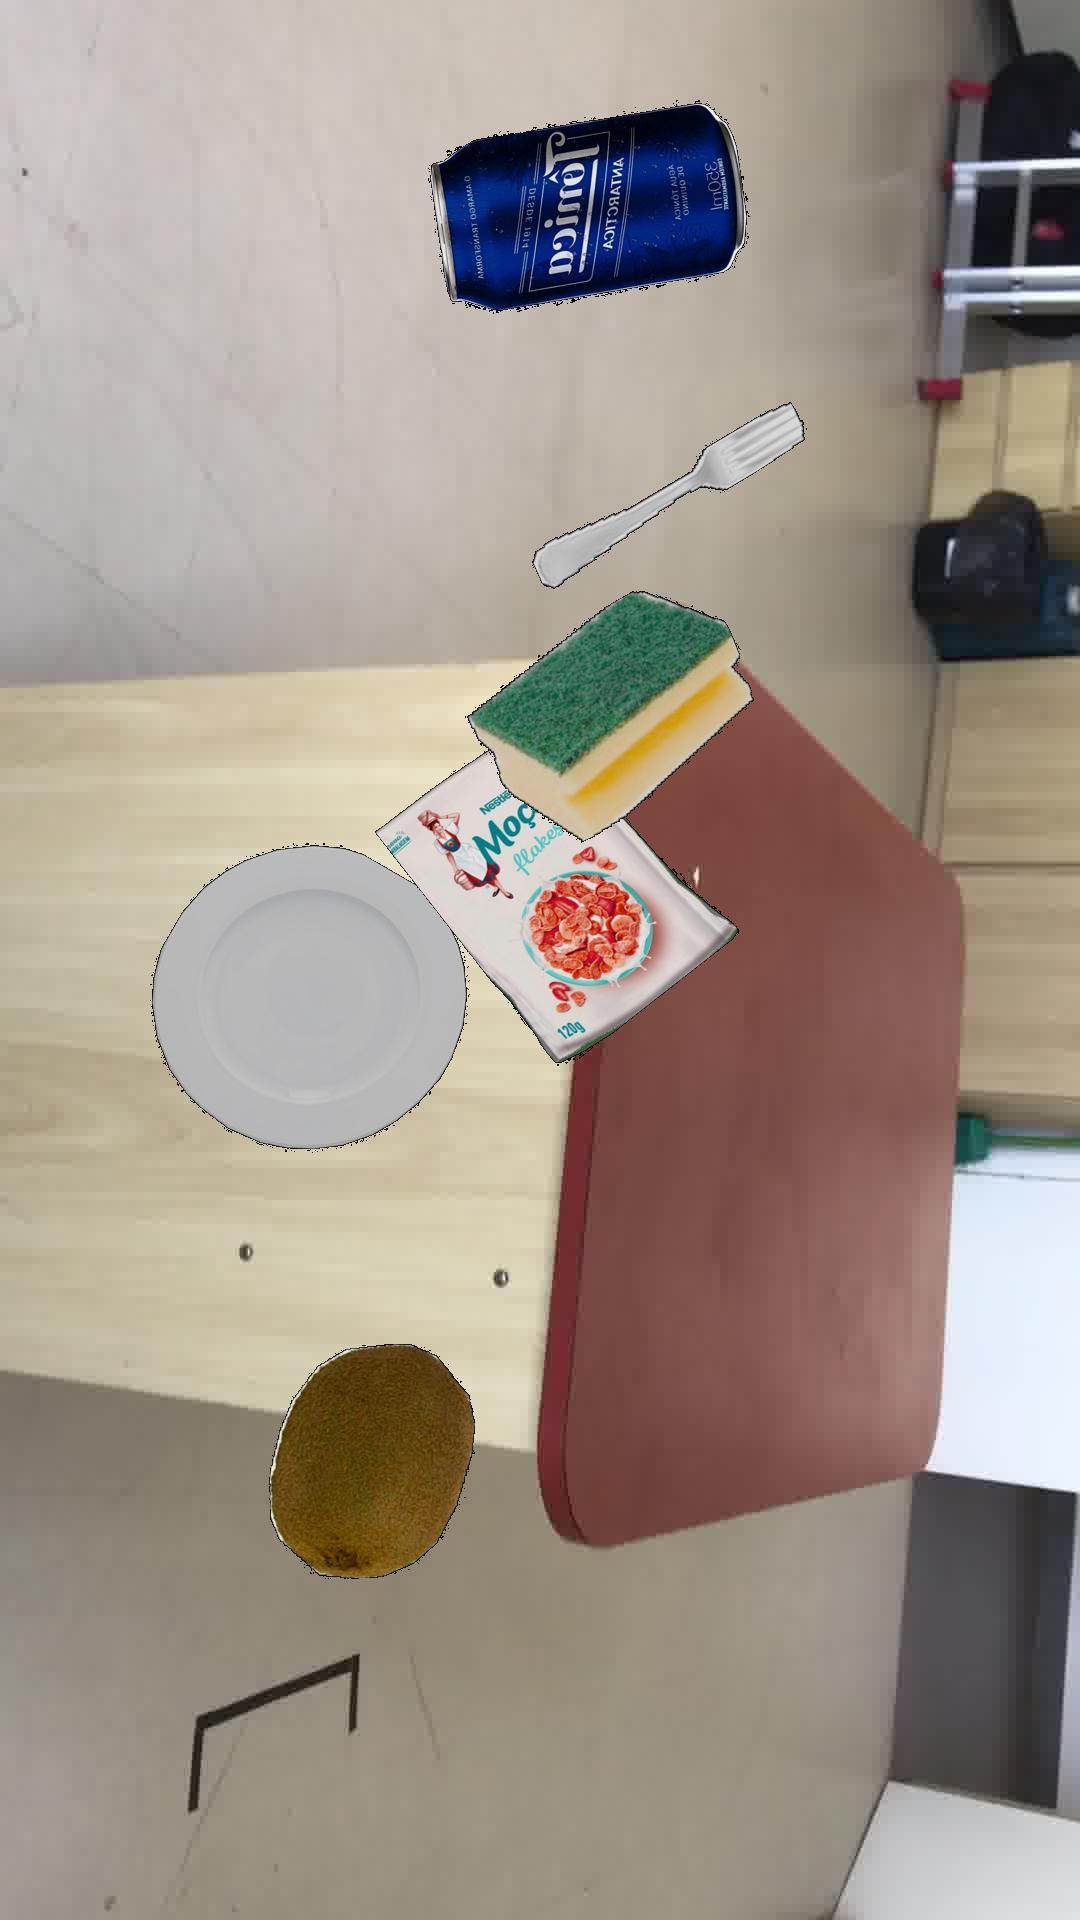corn flakes: (373, 749, 737, 1062)
fork: (530, 401, 803, 588)
kiwi: (268, 1342, 473, 1577)
plate: (149, 844, 467, 1149)
sponge: (465, 589, 753, 841)
tonic: (427, 99, 746, 311)
